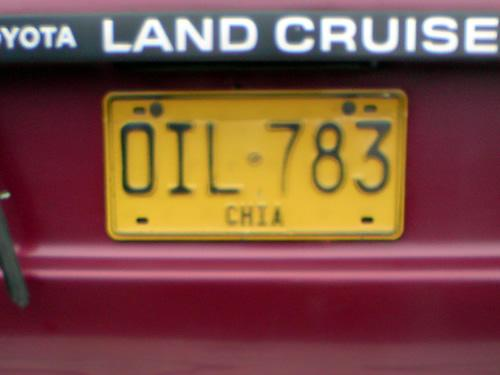placas: (100, 86, 410, 242)
